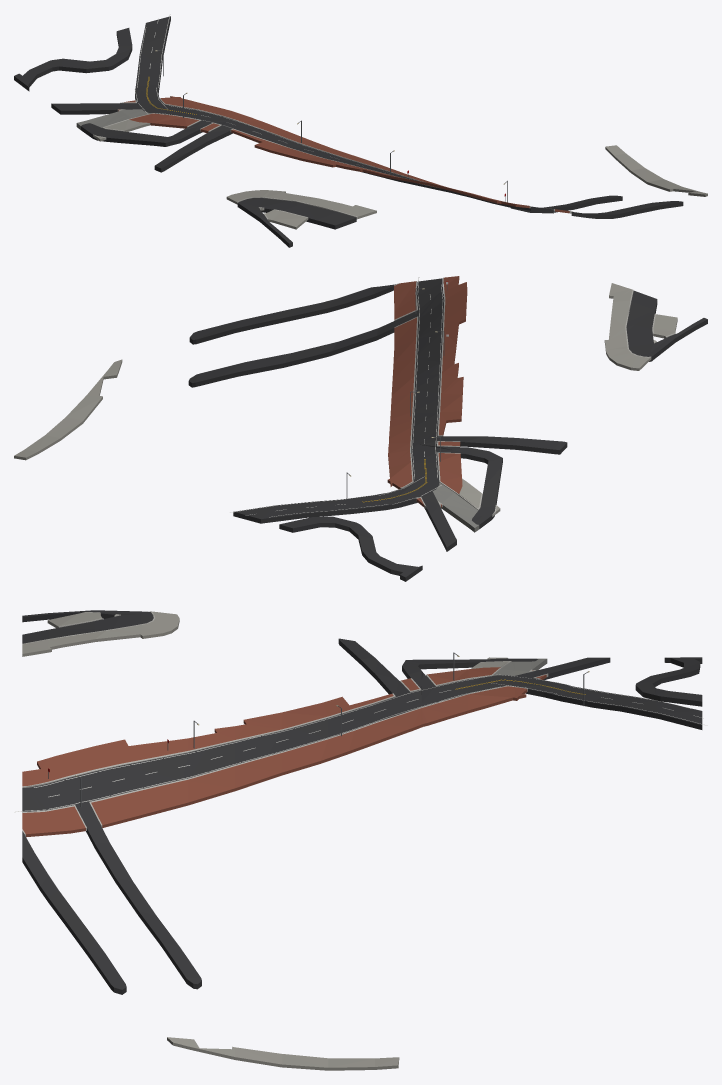
3 views of the same model, one above another, from view 1: azimuth 30°, elevation 25°; view 2: azimuth 150°, elevation 25°; view 3: azimuth 270°, elevation 25° (orthographic). The views are drawn at different scales.
Size of the model in its own units: 147 by 42.67 by 149.
